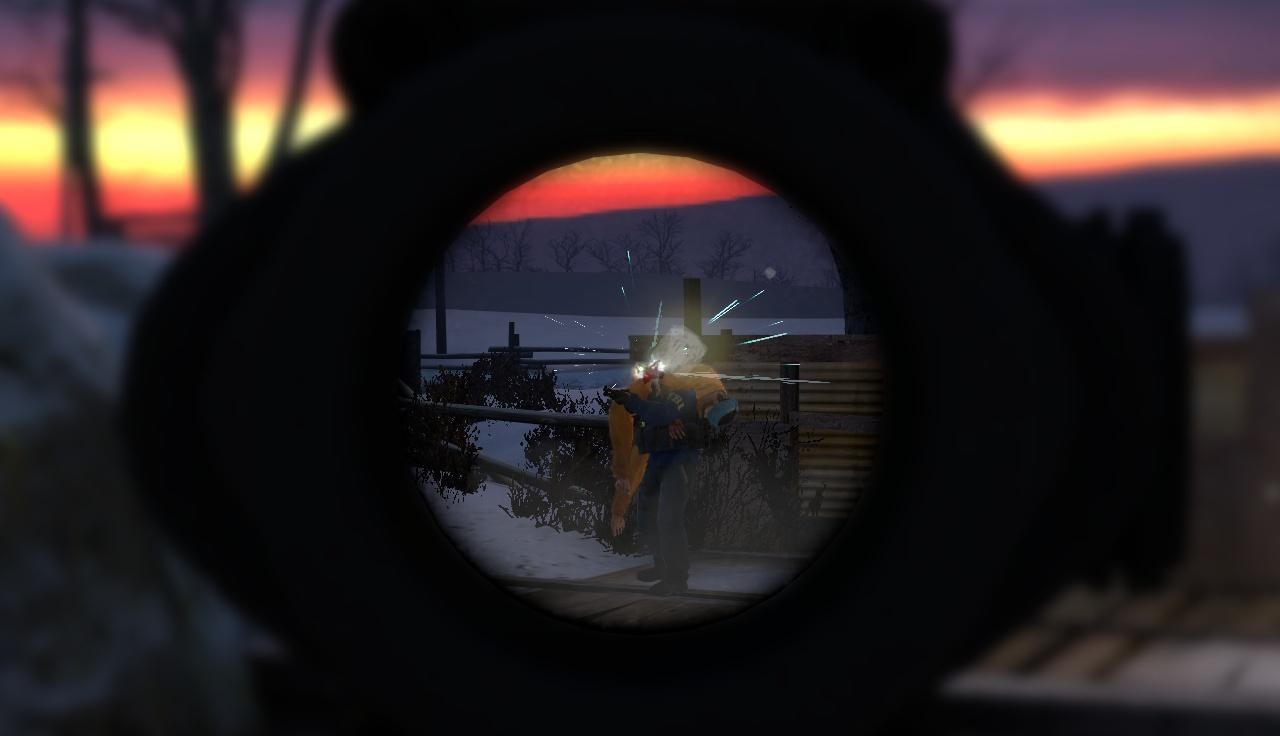ct: (633, 385, 701, 589)
